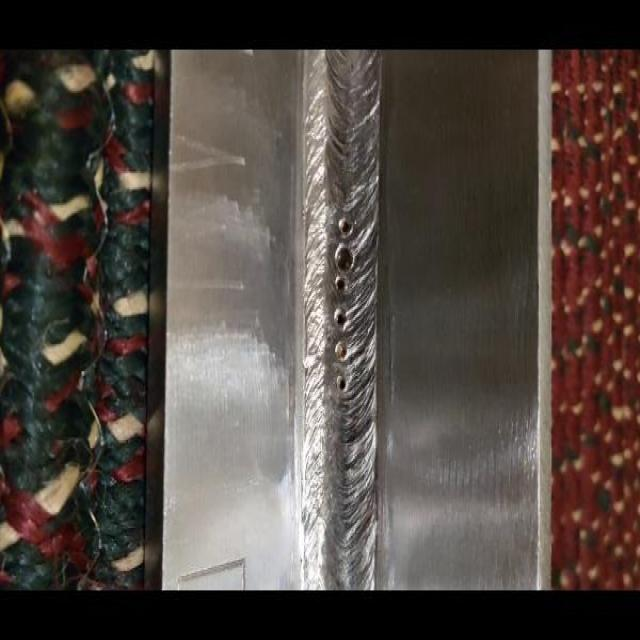Welding Line: (300, 44, 380, 590)
Workpiece: (170, 49, 546, 586)
porosity: (332, 216, 353, 392)
